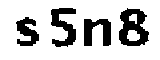5: (47, 4, 79, 49)
8: (118, 6, 153, 51)
n: (81, 16, 115, 52)
s: (12, 17, 41, 49)
